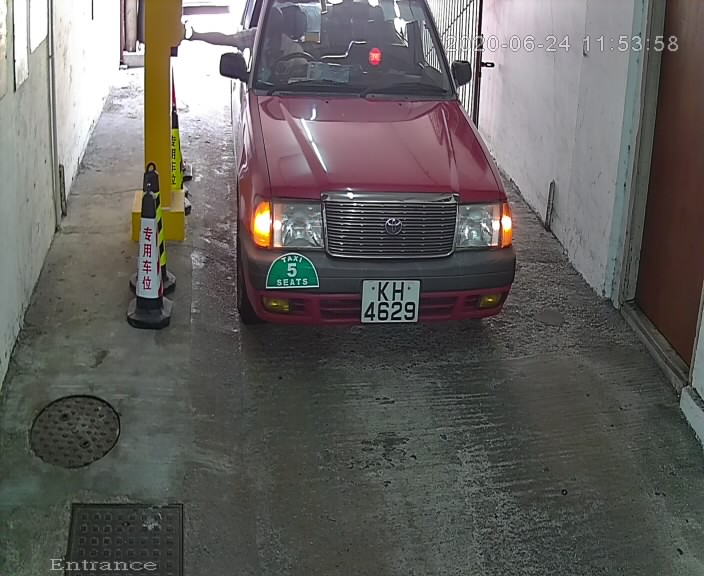Car: (213, 1, 532, 369)
License Plate: (356, 273, 426, 330)
